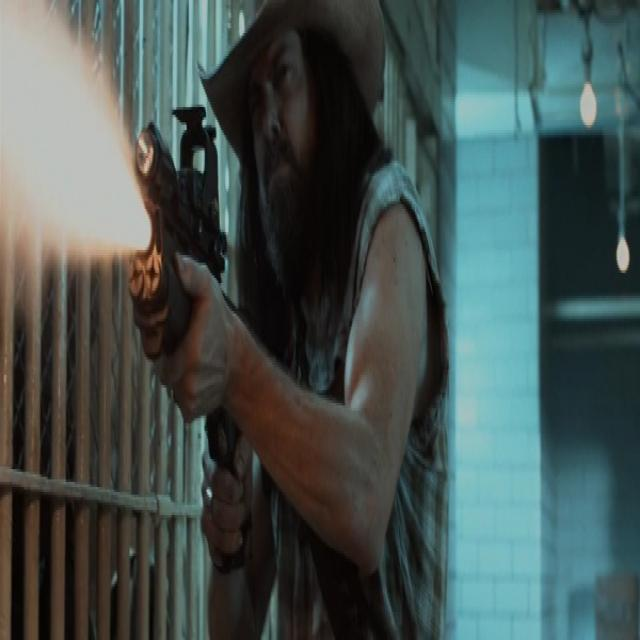rifle: (131, 90, 227, 352)
